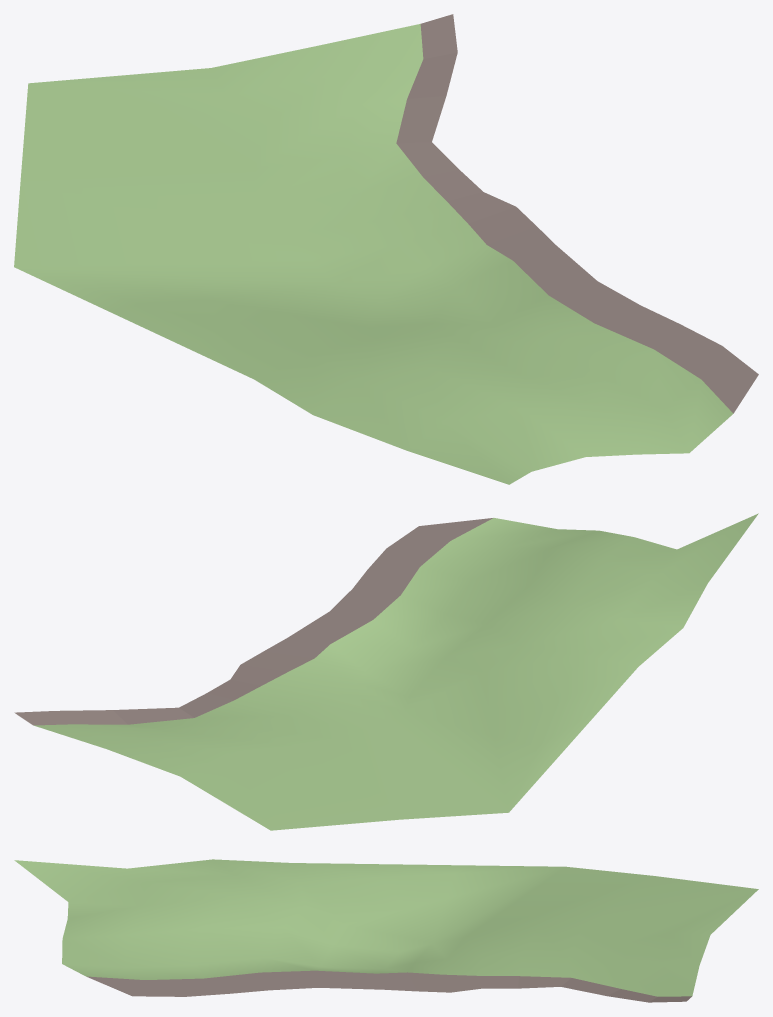
File: level_61.fbx
3 views of the same model, one above another, from view 1: azimuth 30°, elevation 25°; view 2: azimuth 150°, elevation 25°; view 3: azimuth 270°, elevation 25° (orthographic). The views are drawn at different scales.
Visible parts, largest first — view 1: loc_061; view 2: loc_061; view 3: loc_061.
Boxes of the visible parts, bbox=[...] form: loc_061: bbox=[14, 14, 758, 484]; loc_061: bbox=[14, 513, 758, 830]; loc_061: bbox=[14, 859, 758, 1002].
Bounding box in the file's own units: 26.26 × 3.1 × 46.93.
